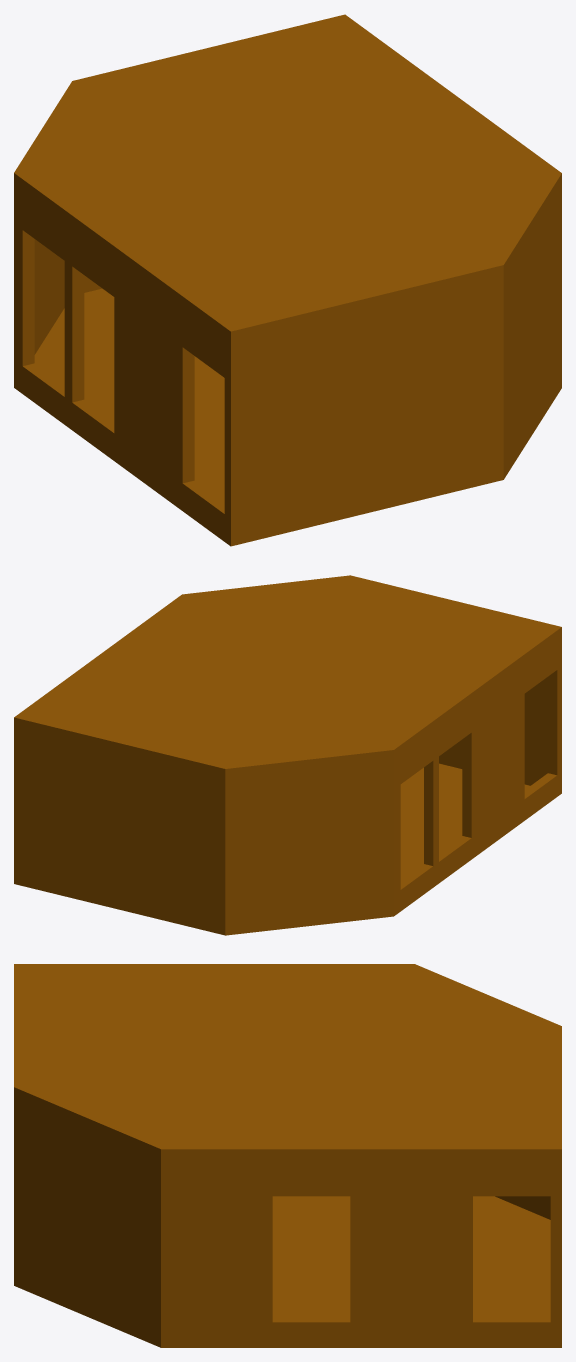
The model's file is SM_Bat2.fbx.
3 views of the same model, one above another, from view 1: azimuth 30°, elevation 25°; view 2: azimuth 150°, elevation 25°; view 3: azimuth 270°, elevation 25° (orthographic). The views are drawn at different scales.
Visible parts, largest first — view 1: Bat2; view 2: Bat2; view 3: Bat2.
Boxes of the visible parts, x1,y1,x2,y2 form: Bat2: [14, 14, 561, 546]; Bat2: [14, 575, 561, 935]; Bat2: [14, 964, 561, 1347].
Bounding box in the file's own units: 400 × 200 × 500.
